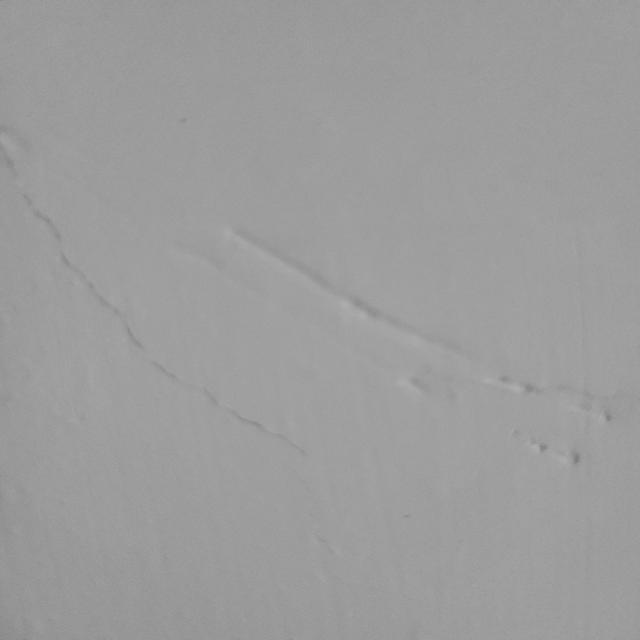rough and patchy surface: (206, 194, 625, 435)
